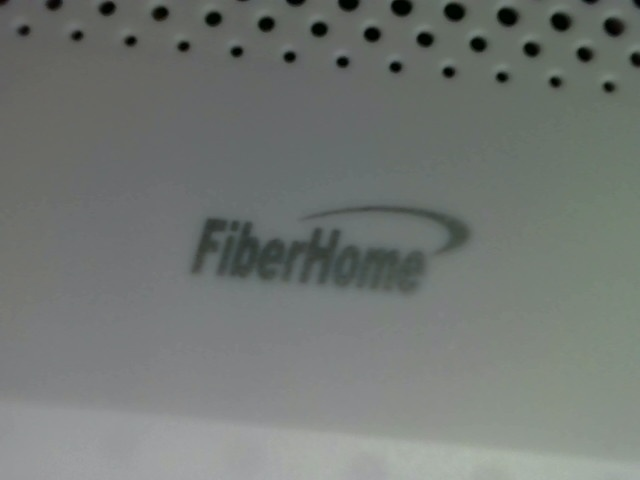AI_FiberHome: (183, 191, 474, 308)
